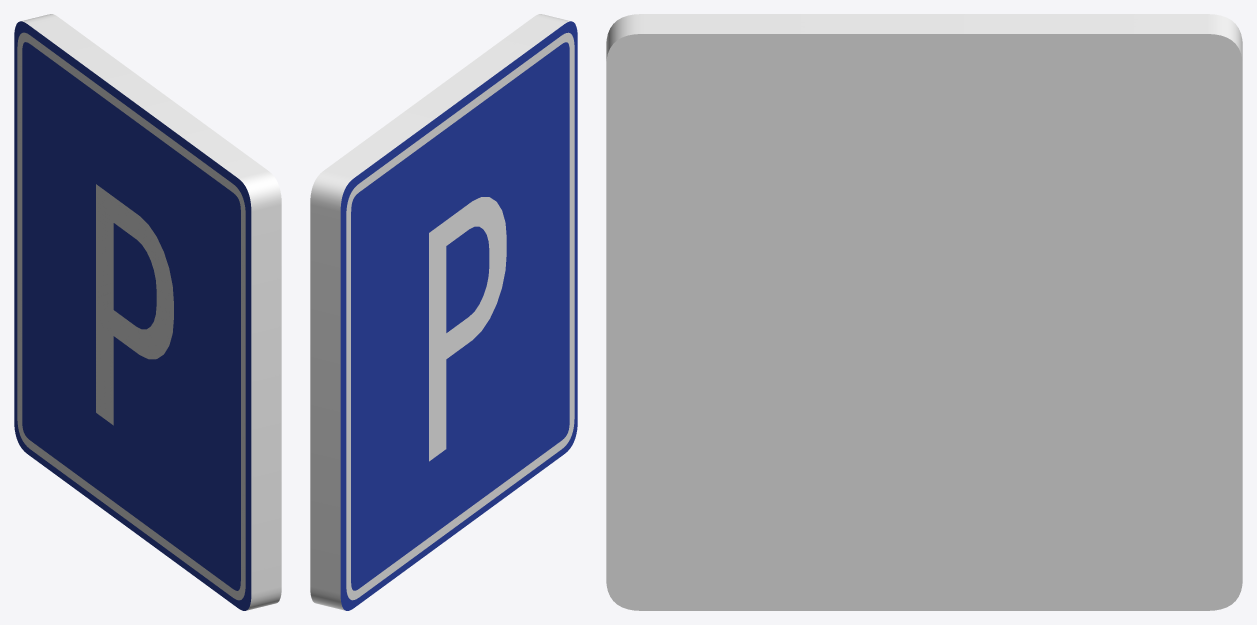
Rendered from Parkingspace.fbx.
3 views of the same model, side by side, from view 1: azimuth 30°, elevation 25°; view 2: azimuth 150°, elevation 25°; view 3: azimuth 270°, elevation 25° (orthographic). The views are drawn at different scales.
Parts seen in each view (by area): view 1: Parkingspace; view 2: Parkingspace; view 3: Parkingspace.
Part boxes in pixels (<box>): Parkingspace: <box>14,14,281,610</box>; Parkingspace: <box>310,14,577,610</box>; Parkingspace: <box>606,14,1242,610</box>.
Bounding box in the file's own units: 0.0824 × 1.01 × 1.01.
